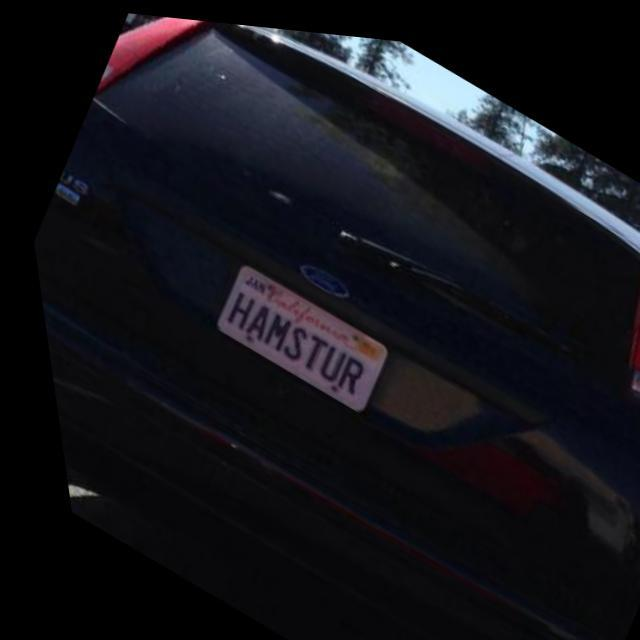license_plate: (198, 254, 388, 410)
